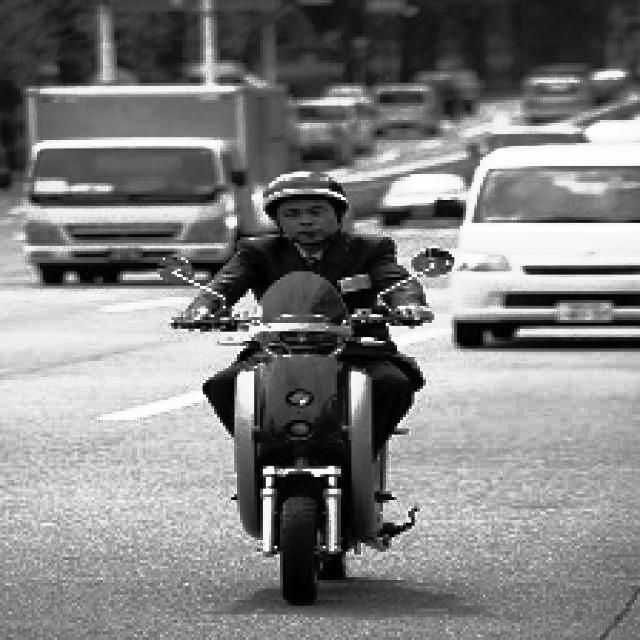Bike: (229, 297, 415, 607)
